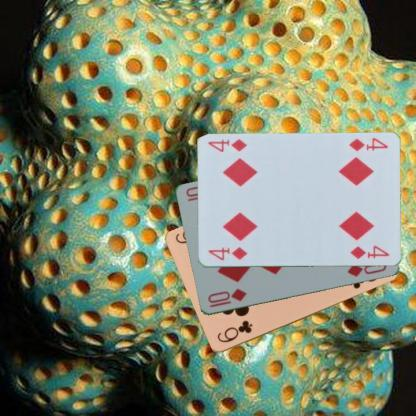10d: (204, 286, 248, 309)
4d: (346, 135, 390, 153), (206, 244, 248, 262)
6c: (214, 318, 255, 344)
